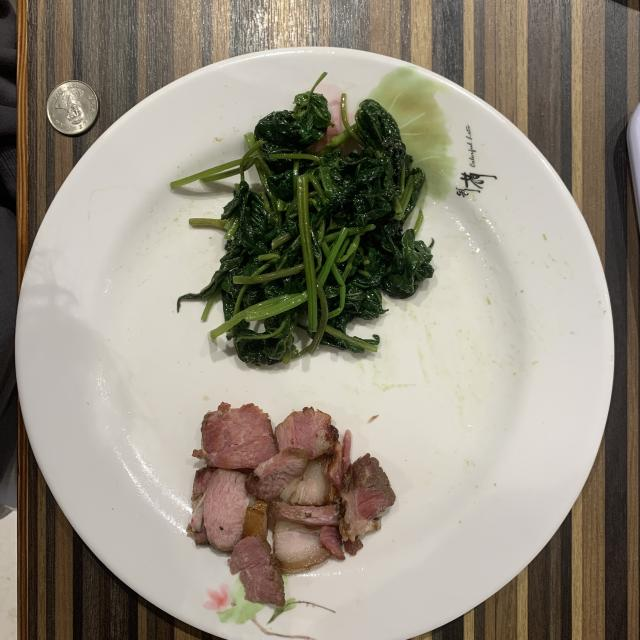coin: (46, 80, 99, 135)
grilled pork: (188, 402, 395, 608)
sweet potato leaves: (171, 72, 434, 365)
